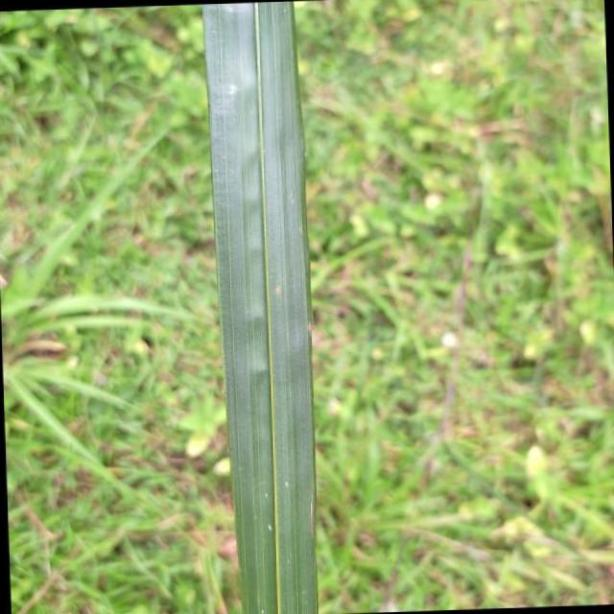Boron: (197, 0, 318, 614)
